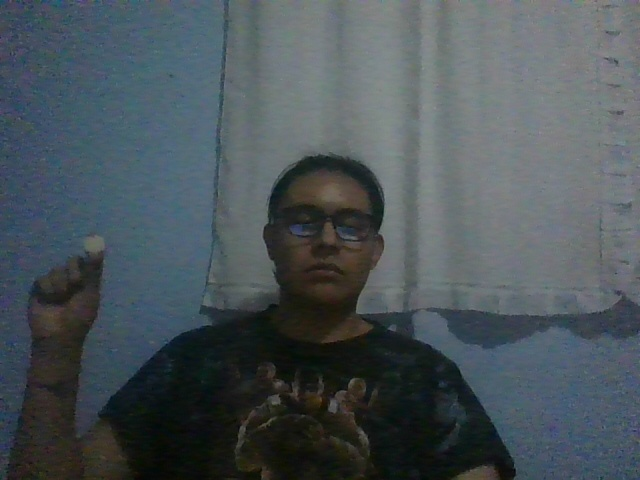goma: (83, 234, 105, 260)
